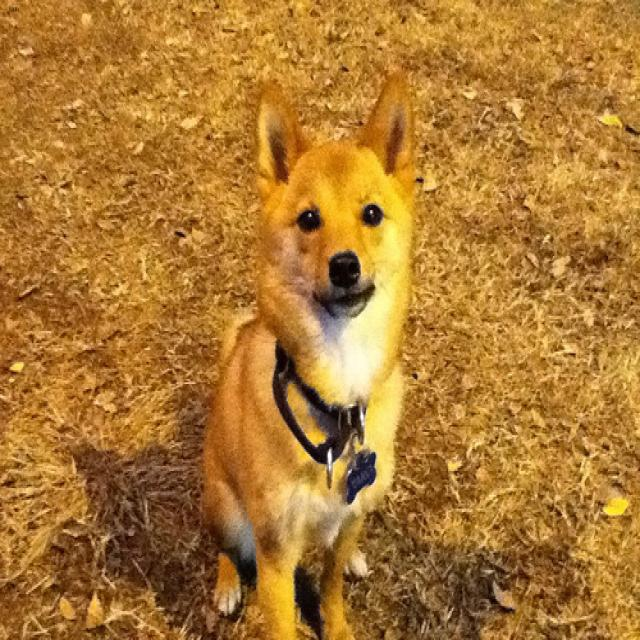dog-shiba_inu: (191, 60, 422, 637)
